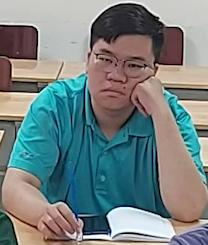Looking_Forward: (8, 3, 202, 233)
